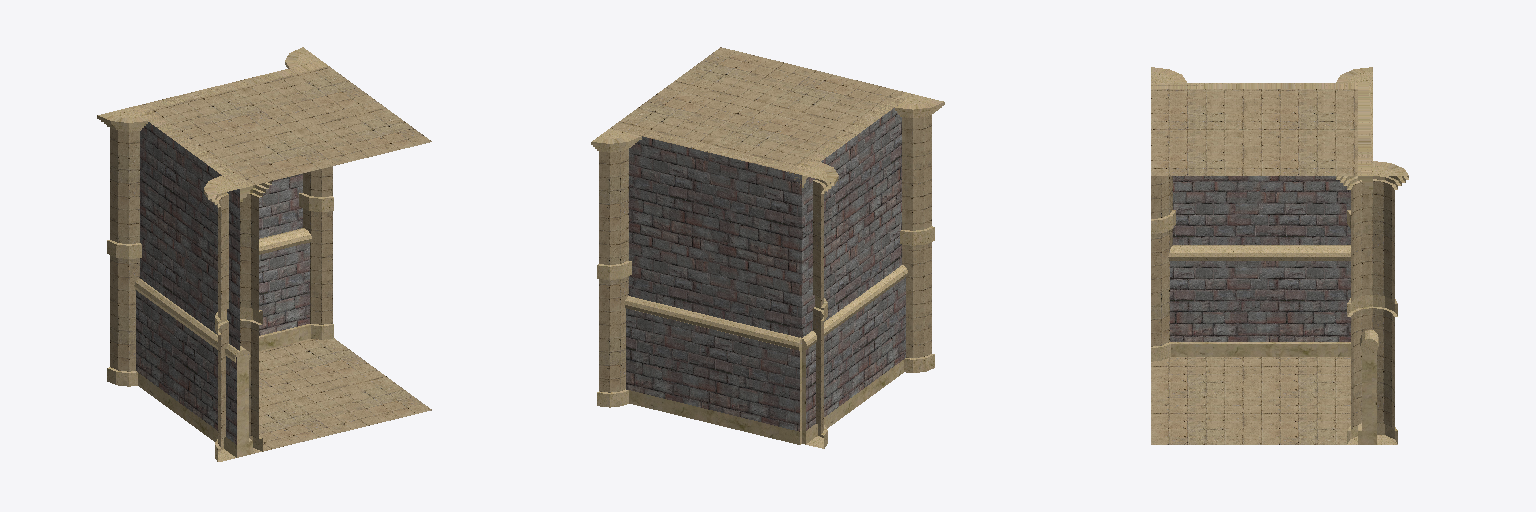
3 renders of one model, left to right at view 1: azimuth 30°, elevation 25°; view 2: azimuth 150°, elevation 25°; view 3: azimuth 270°, elevation 25°, orthographic.
Visible parts, largest first — view 1: Object16, Box06, Object13, Object15, Cylinder09, Cylinder11, Object19, Cylinder13, Box08, Object17, Object18, Cylinder10 (+5 smaller); view 2: Box06, Object16, Object19, Object15, Cylinder13, Cylinder11, Box09, Cylinder12, Cylinder09, Object20, Object18, Box08 (+3 smaller); view 3: Object16, Object13, Object15, Box06, Cylinder13, Cylinder11, Cylinder10, Box08, Object20, Box09, Box10, Box07 (+1 smaller).
Boxes of the visible parts, box(x1,y1,x2,y2) form: Object16: box(129, 63, 431, 187); Box06: box(140, 122, 302, 350); Object13: box(253, 338, 431, 453); Object15: box(136, 290, 248, 444); Cylinder09: box(110, 128, 139, 371); Cylinder11: box(218, 194, 258, 446); Object19: box(259, 243, 309, 335); Cylinder13: box(303, 166, 332, 324); Box08: box(138, 355, 252, 457); Object17: box(97, 108, 147, 386); Object18: box(204, 176, 271, 461); Cylinder10: box(134, 279, 250, 362); Box06: box(629, 108, 901, 337); Object16: box(610, 47, 912, 174); Object19: box(626, 308, 801, 431); Object15: box(806, 277, 905, 430); Cylinder13: box(599, 149, 628, 392); Cylinder11: box(902, 115, 931, 357); Box09: box(629, 344, 801, 444); Cylinder12: box(624, 296, 801, 350); Cylinder09: box(813, 181, 823, 433); Object20: box(591, 129, 641, 407); Object18: box(895, 94, 944, 372); Box08: box(802, 350, 903, 444); Object16: box(1151, 83, 1372, 175); Object13: box(1151, 357, 1350, 444); Object15: box(1170, 261, 1350, 341); Box06: box(1173, 176, 1350, 244); Cylinder13: box(1351, 181, 1394, 430); Cylinder11: box(1151, 176, 1172, 346); Cylinder10: box(1168, 245, 1350, 260); Box08: box(1166, 342, 1350, 356); Object20: box(1336, 161, 1408, 444); Box09: box(1358, 351, 1376, 444); Box10: box(1358, 83, 1372, 189); Box07: box(1151, 83, 1357, 88).
Size of the model in its own units: 3.5 by 4 by 3.5.
3 materials, 3 textured.